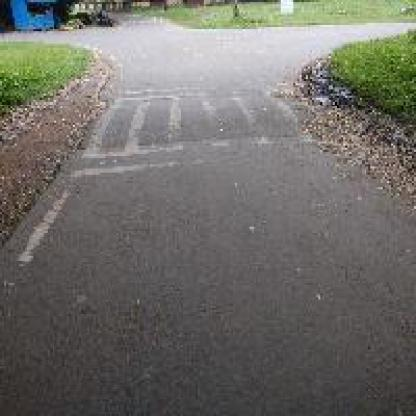Speed Bump: (71, 83, 322, 179)
